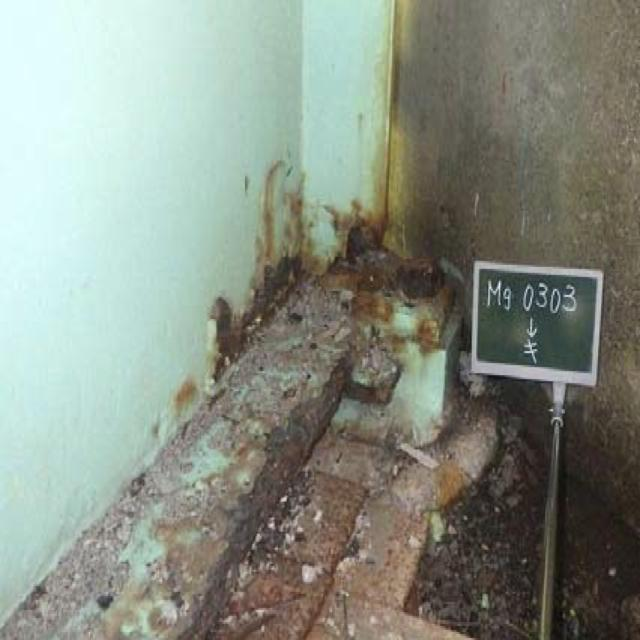corrosion: (187, 170, 466, 460)
